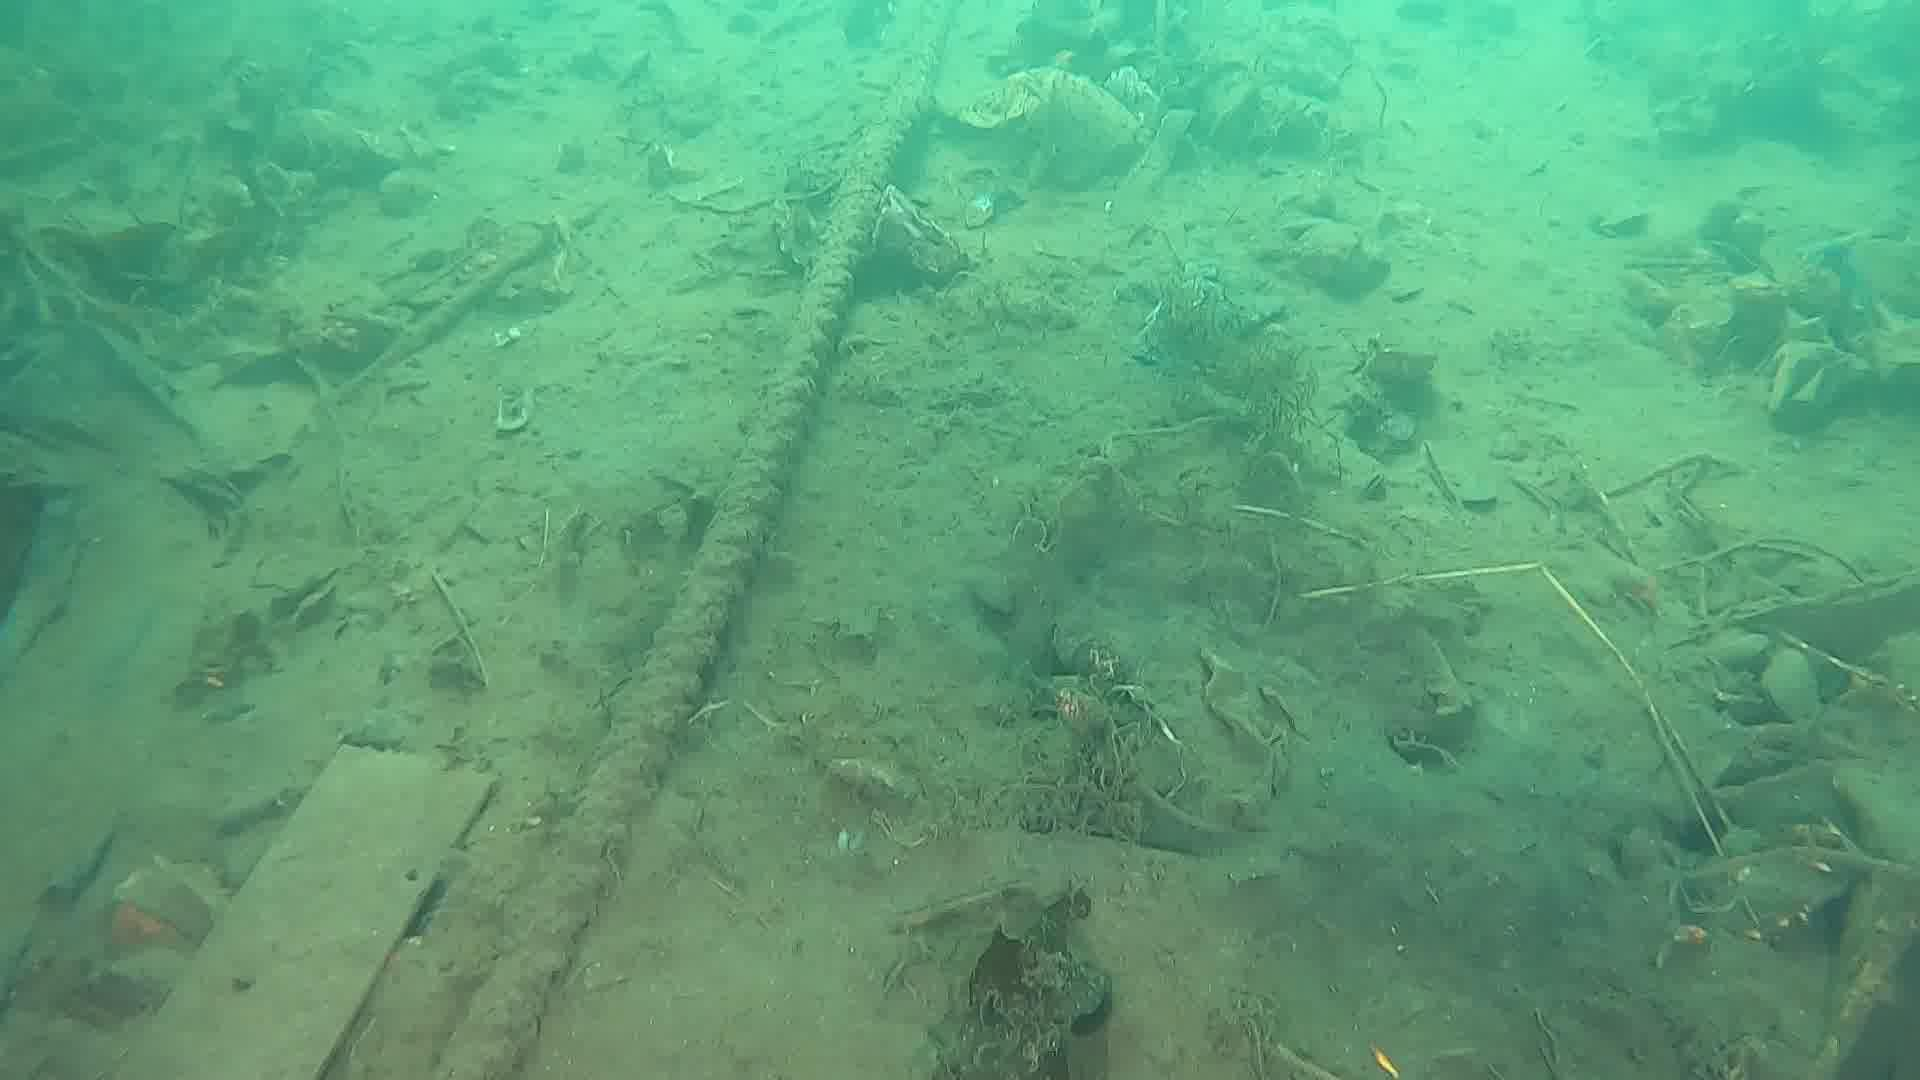rope: (435, 0, 944, 1080)
